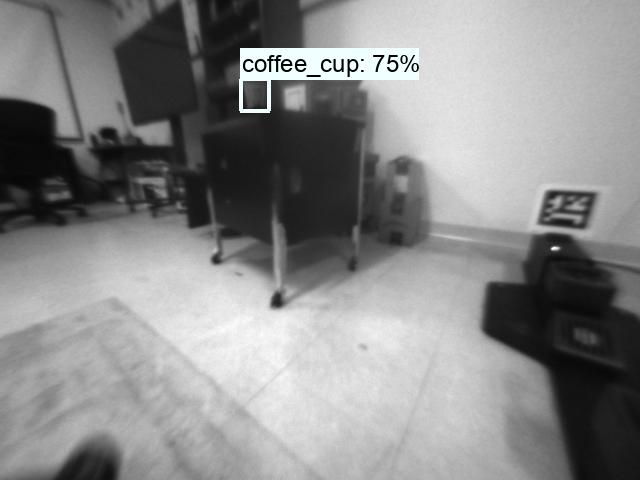coffee_cup: (240, 80, 269, 111)
